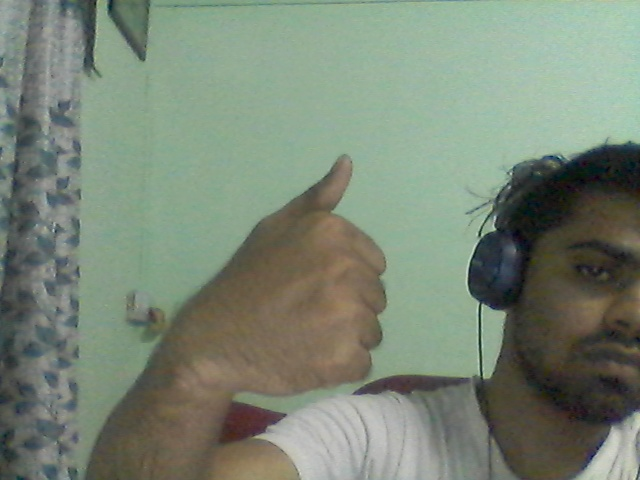Yes: (152, 126, 431, 433)
